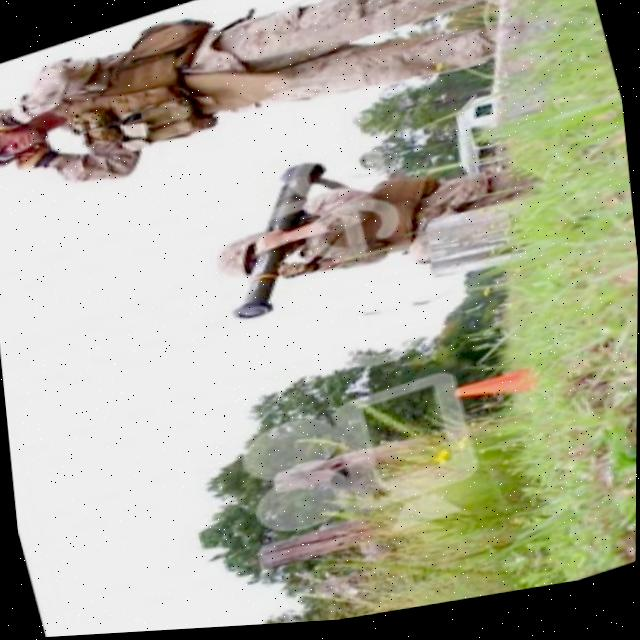rocket: (197, 153, 372, 333)
